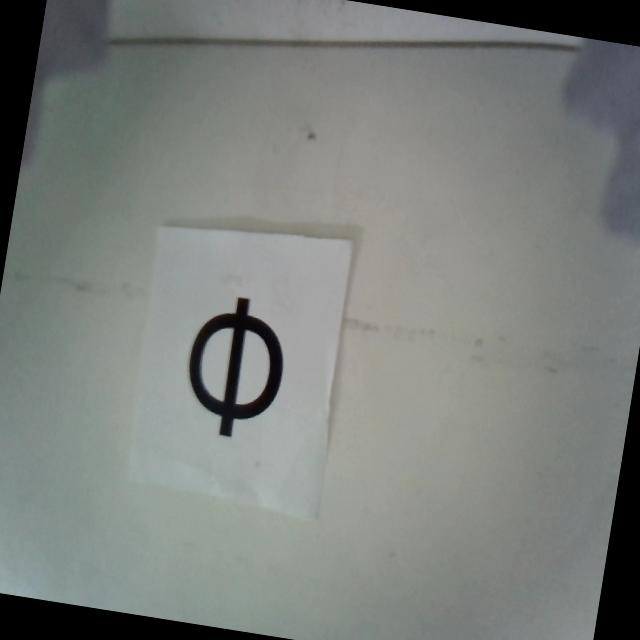F: (178, 288, 295, 446)
